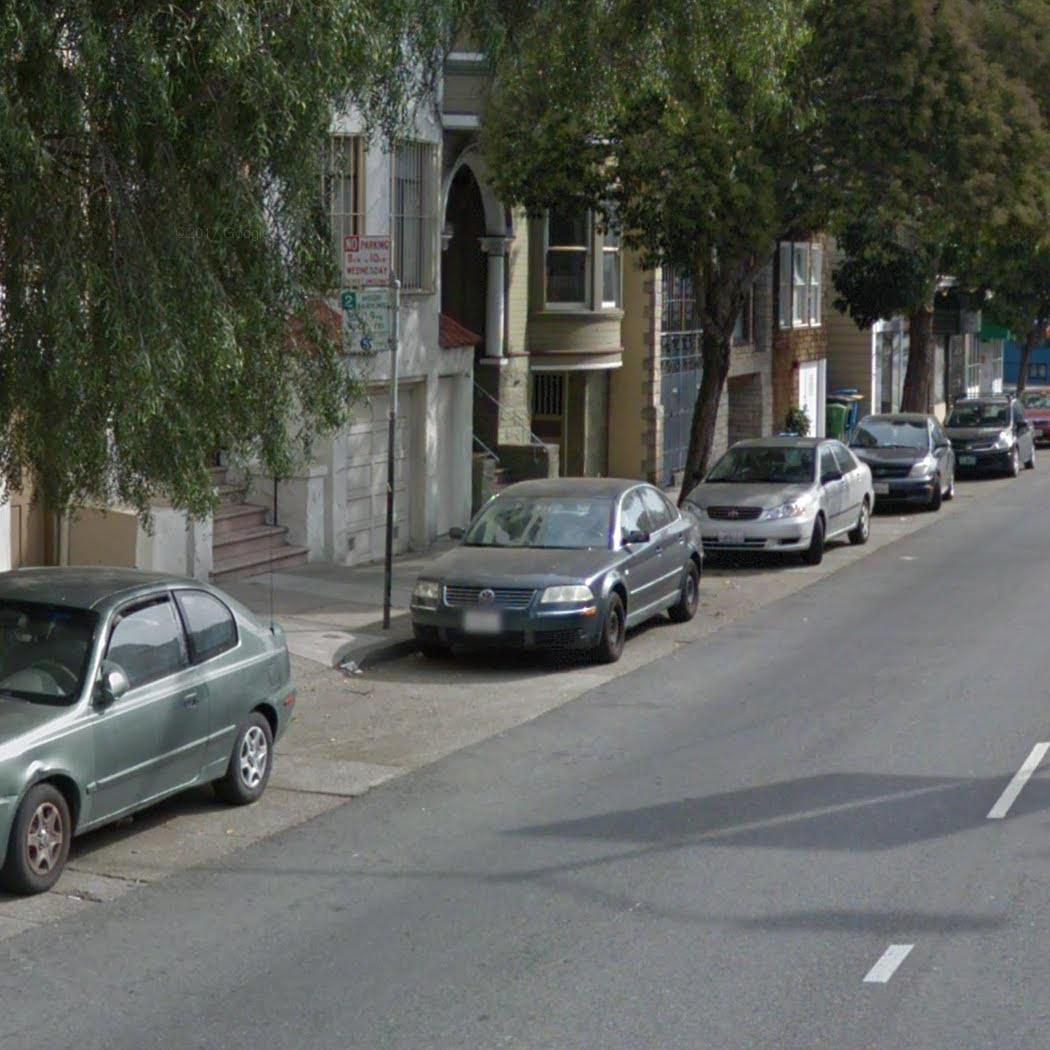2 Hour Parking: (337, 284, 398, 358)
No Parking: (340, 232, 397, 290)
